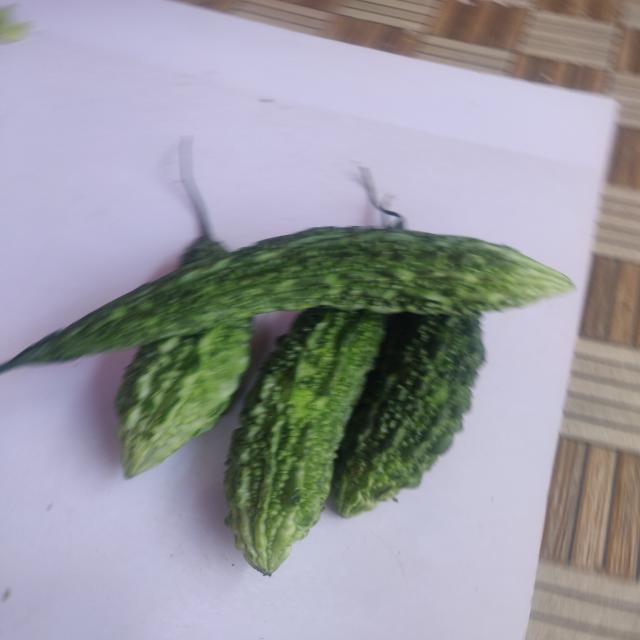Bitter Gourd: (1, 226, 574, 371), (224, 308, 386, 576), (332, 313, 485, 518), (115, 318, 250, 478)
